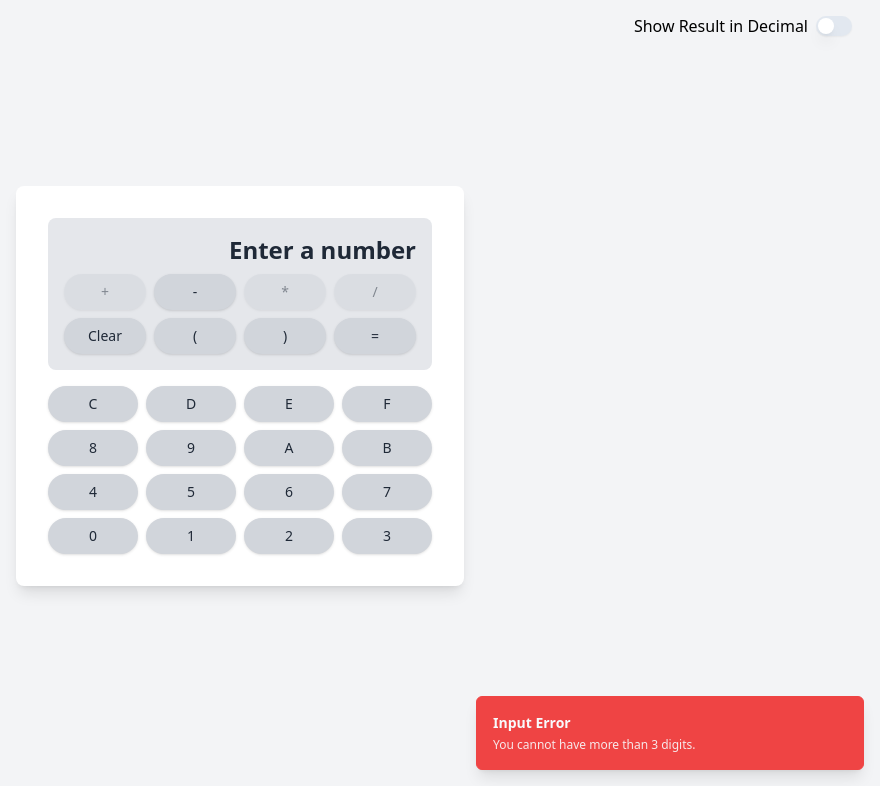
Test: Page › click 3 buttons and see if the corresponding numbers apprears in the entry area and then clear
Click the button "A".
click(289, 448)  # box [244, 430, 334, 466]
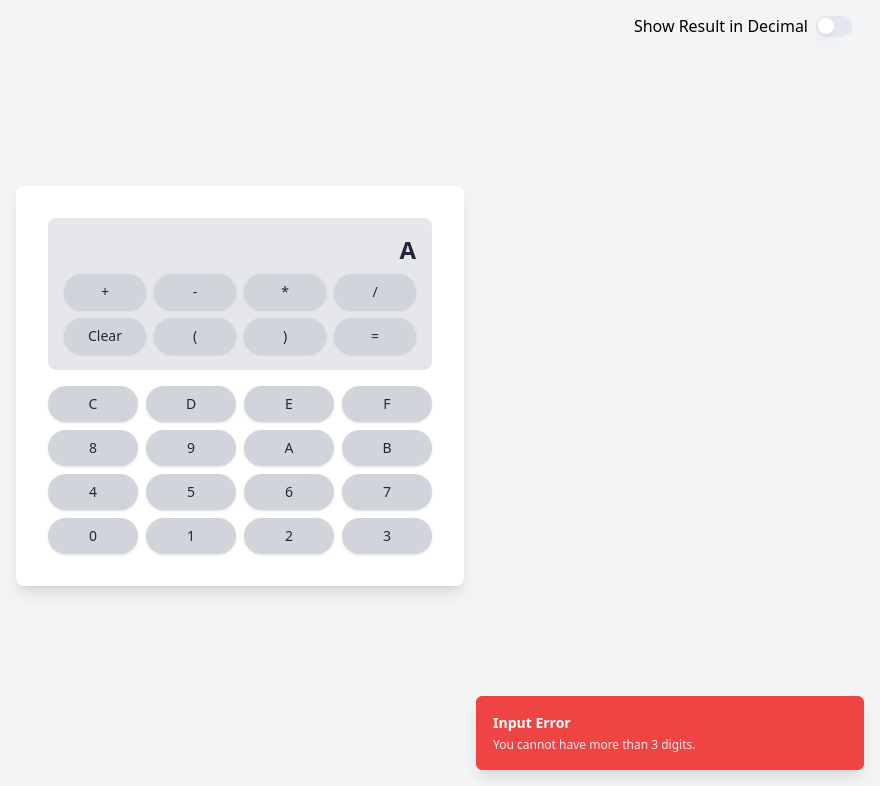
Click the button with test id "key-1".
click(191, 536)  # box [146, 518, 236, 554]
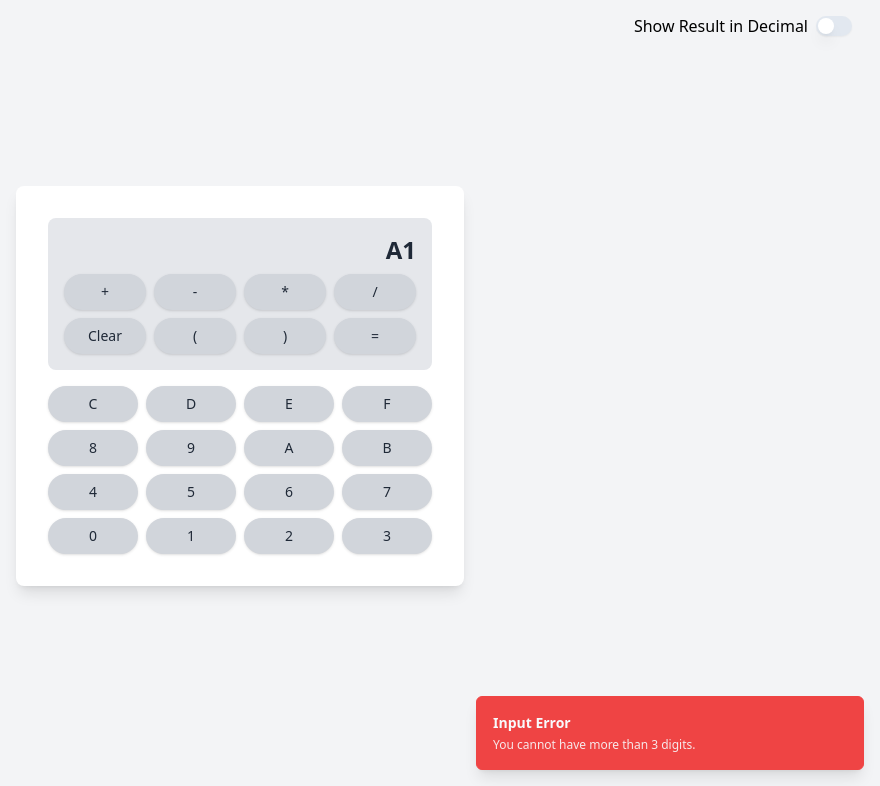
Click the button "C".
click(93, 404)  # box [48, 386, 138, 422]
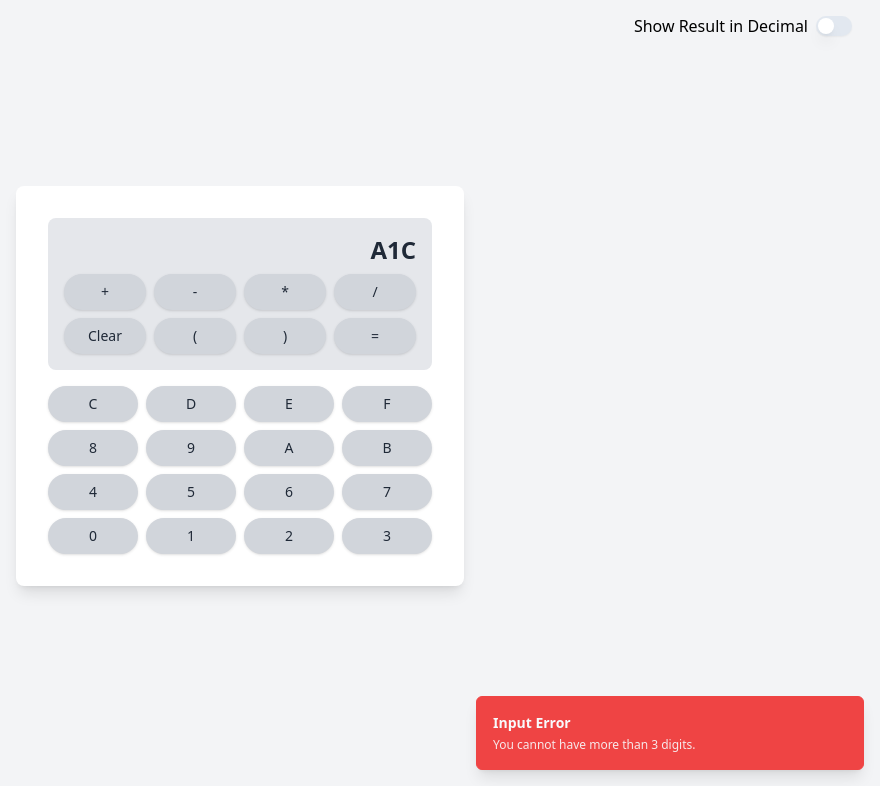
Result: the text with test id "entryArea" reads "A1C" at [370, 233, 416, 266]
Click the button with test id "clear".
click(105, 336)  # box [64, 318, 146, 354]
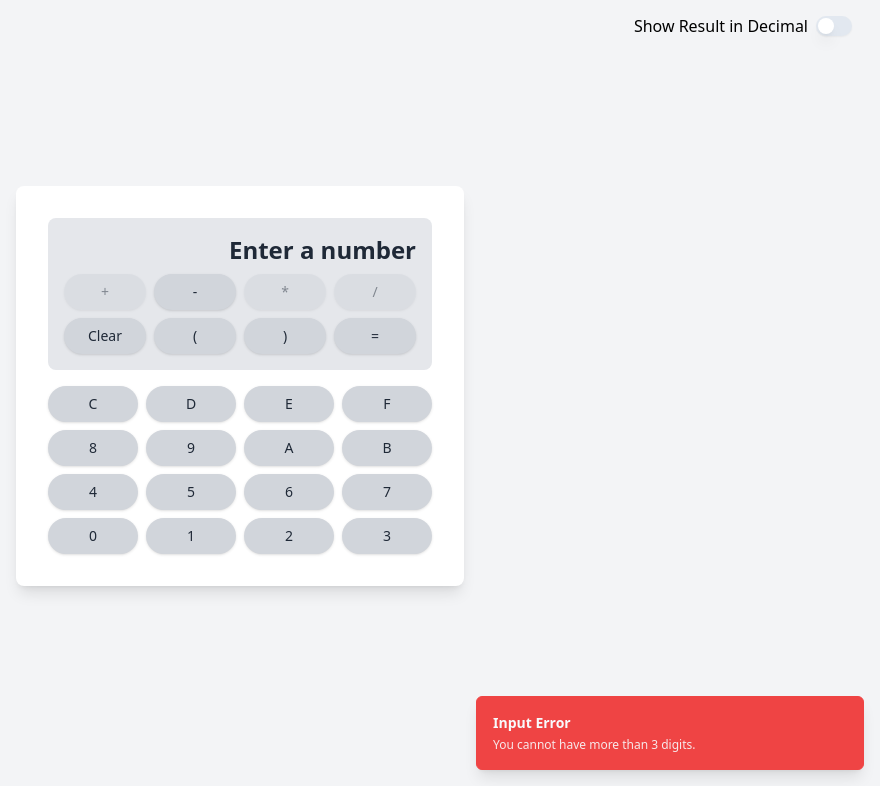
Result: the text with test id "entryArea" reads "Enter a number" at [229, 233, 416, 266]
